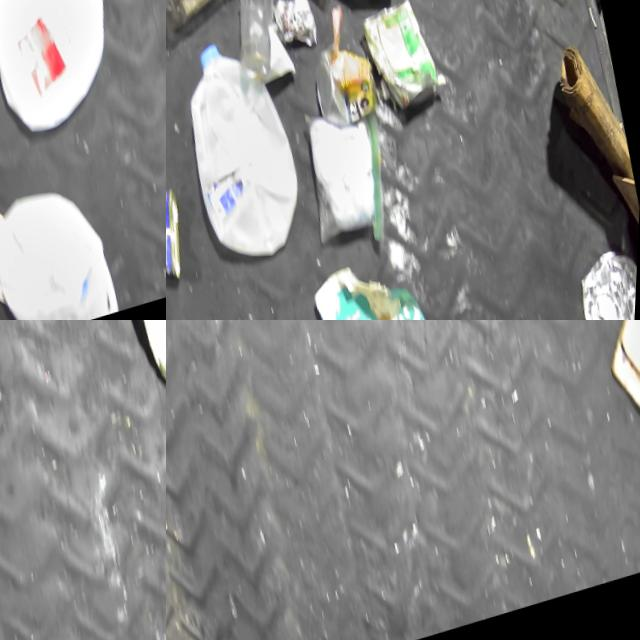can: (354, 0, 447, 127), (305, 38, 385, 139), (562, 248, 640, 320), (166, 181, 194, 292)
milk_jug: (166, 26, 318, 279), (0, 0, 138, 150), (0, 175, 130, 320)
non_white_jug: (119, 320, 166, 397)
plastic_bottle: (166, 0, 247, 47)
